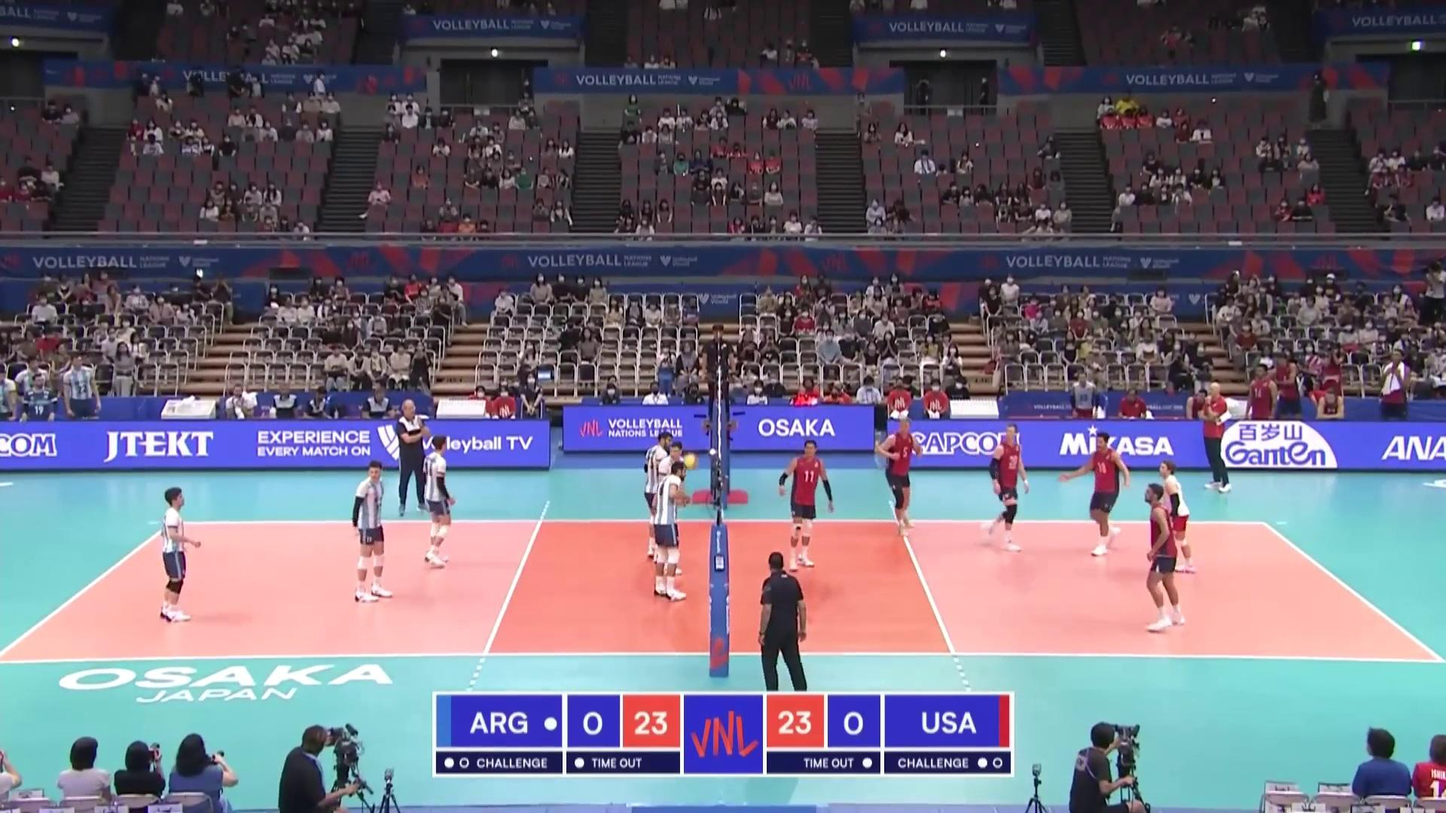player: (1063, 431, 1130, 559), (777, 441, 835, 567), (1138, 484, 1184, 630), (347, 463, 394, 604), (981, 425, 1029, 552), (157, 485, 199, 621), (418, 436, 459, 569), (878, 416, 921, 536), (1151, 460, 1194, 576), (649, 463, 685, 600), (657, 442, 691, 576), (643, 433, 679, 554)
refree: (759, 554, 810, 692), (702, 321, 735, 437)
